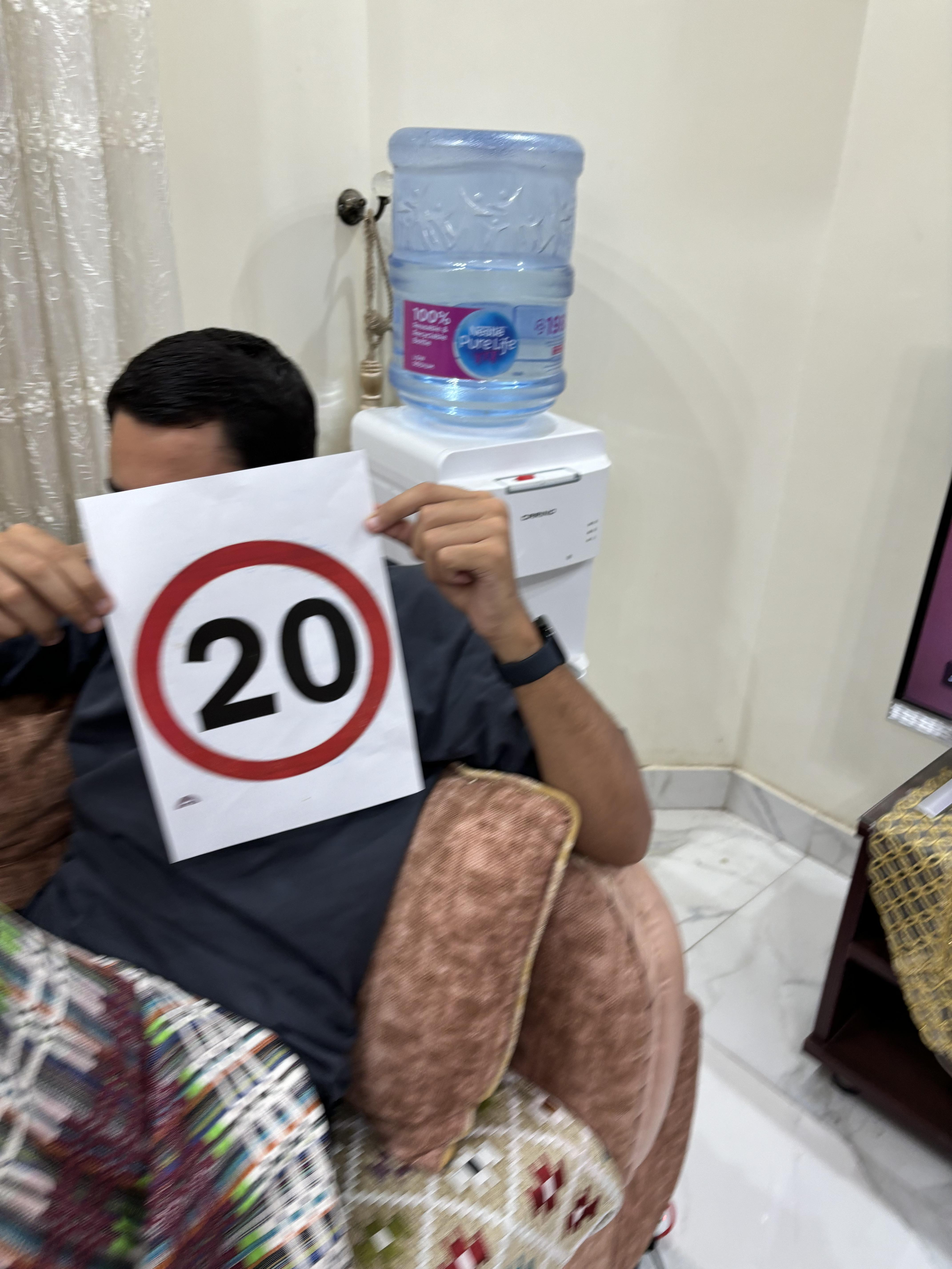20-Speed: (127, 529, 403, 789)
